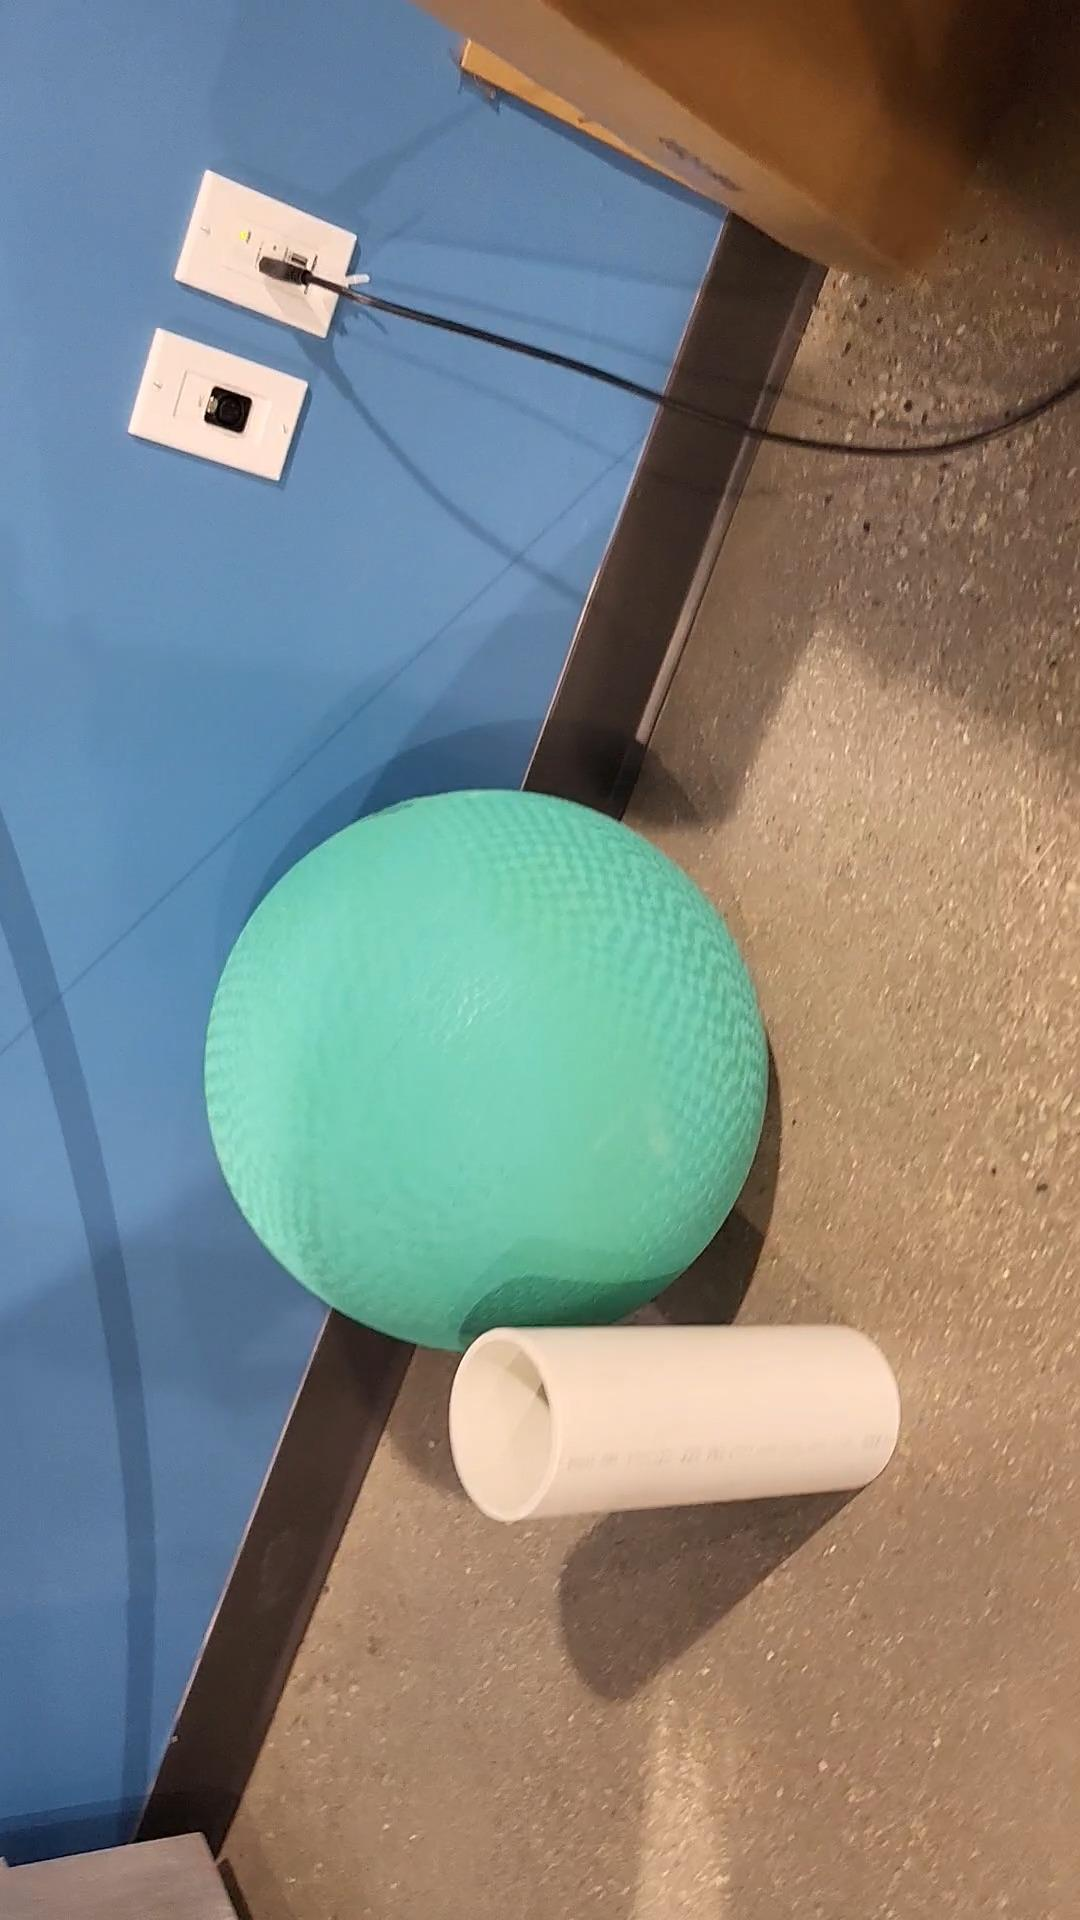algae: (206, 789, 764, 1354)
coral: (450, 1327, 898, 1519)
